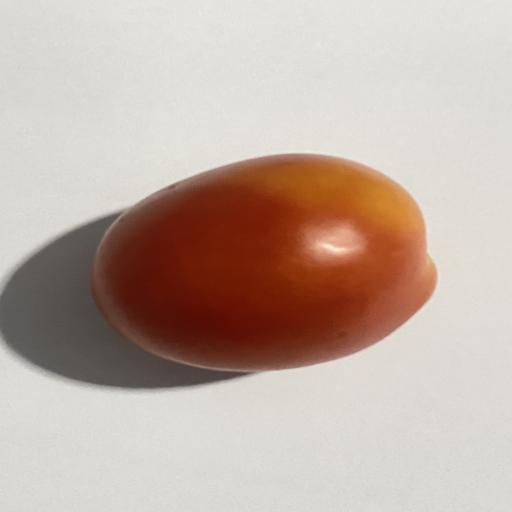ripe: (92, 154, 436, 372)
